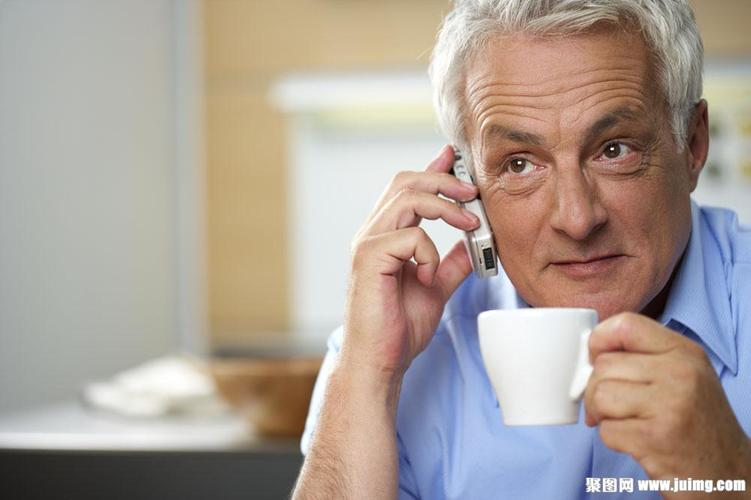calling: (340, 139, 501, 371)
